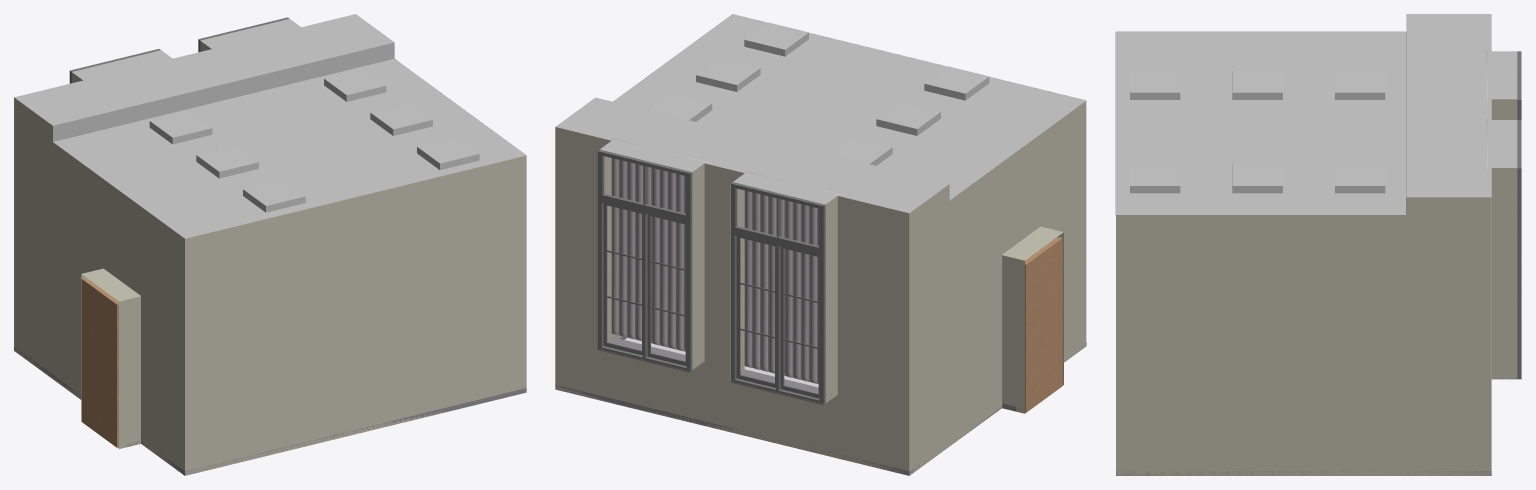
Rendered from T111Atlas.fbx.
The picture shows the model from 3 angles, left to right: view 1: azimuth 30°, elevation 25°; view 2: azimuth 150°, elevation 25°; view 3: azimuth 270°, elevation 25°; orthographic projection. The views are drawn at different scales.
Visible parts, largest first — view 1: Room_Walls, Ceiling, Lights_1, Door_Frame, Floor_Border; view 2: Room_Walls, Ceiling, Blinds_Blinds.001, Blinds_Blinds, Lights_1, Window_Window.001, Window_Window, Door_Frame, Floor_Border, Window_Sill_2, Window_Sill_1; view 3: Room_Walls, Ceiling, Lights_1, Window_Window.001.
Boxes of the visible parts, x1,y1,x2,y2 form: Room_Walls: (14, 41, 526, 475); Ceiling: (14, 14, 526, 238); Lights_1: (149, 69, 479, 212); Door_Frame: (81, 278, 118, 447); Floor_Border: (14, 346, 526, 475); Room_Walls: (555, 101, 1086, 475); Ceiling: (555, 14, 1086, 213); Blinds_Blinds.001: (611, 158, 685, 351); Blinds_Blinds: (744, 190, 818, 383); Lights_1: (648, 22, 989, 165); Window_Window.001: (597, 149, 692, 372); Window_Window: (731, 182, 825, 404); Door_Frame: (1025, 237, 1062, 413); Floor_Border: (555, 336, 1086, 475); Window_Sill_2: (597, 337, 704, 372); Window_Sill_1: (730, 369, 836, 405); Room_Walls: (1116, 31, 1521, 475); Ceiling: (1115, 14, 1521, 215); Lights_1: (1130, 71, 1385, 193); Window_Window.001: (1517, 120, 1521, 379).
Size of the model in its own units: 5.42 by 3.6 by 4.75.
